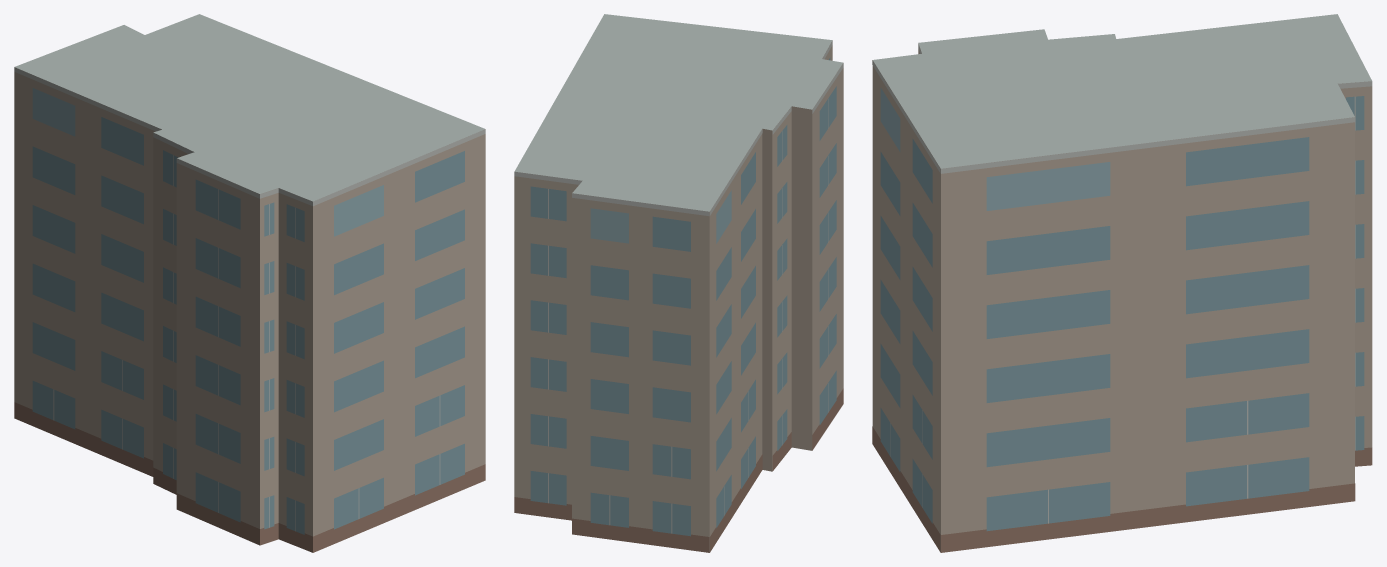
File: survey-upis-32653627.glb
The picture shows the model from 3 angles, left to right: view 1: azimuth 30°, elevation 25°; view 2: azimuth 150°, elevation 25°; view 3: azimuth 270°, elevation 25°; orthographic projection. The views are drawn at different scales.
Parts seen in each view (by area): view 1: survey-upis-32653627.tmp; view 2: survey-upis-32653627.tmp; view 3: survey-upis-32653627.tmp.
Part boxes in pixels (bbox=[...]): survey-upis-32653627.tmp: bbox=[14, 14, 485, 552]; survey-upis-32653627.tmp: bbox=[514, 14, 843, 552]; survey-upis-32653627.tmp: bbox=[872, 14, 1372, 552].
Size of the model in its own units: 15.73 by 18.2 by 21.47.
